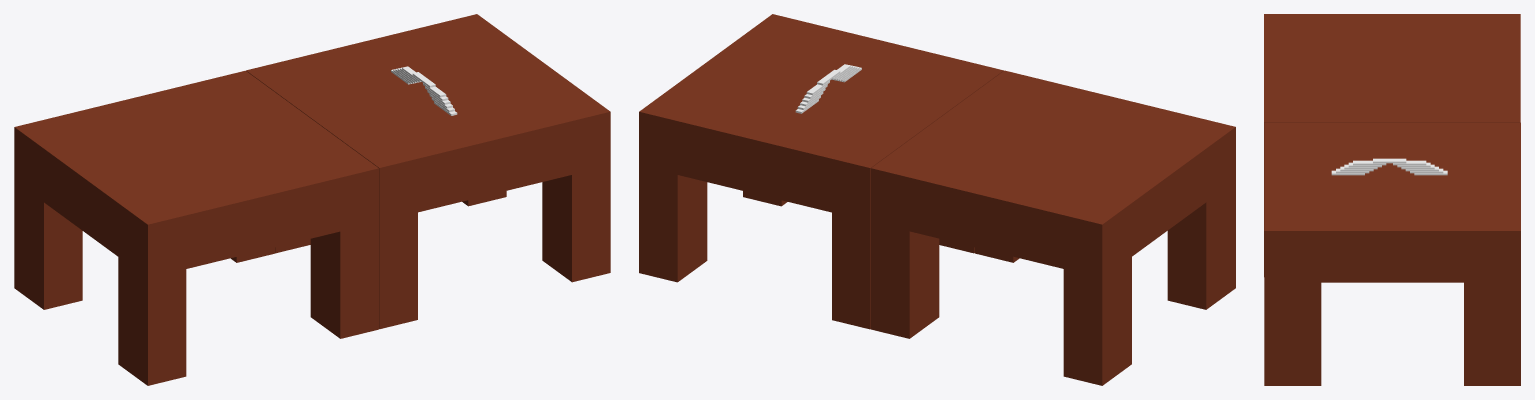
Rendered from keva_bridge.dae.
3 views of the same model, side by side, from view 1: azimuth 30°, elevation 25°; view 2: azimuth 150°, elevation 25°; view 3: azimuth 270°, elevation 25° (orthographic). The views are drawn at different scales.
Parts seen in each view (by area): view 1: base (×7); view 2: base (×7); view 3: base (×4).
Boxes of the visible parts, <box> form: base (×7): <box>14,14,610,385</box>; base (×7): <box>639,14,1235,385</box>; base (×4): <box>1264,14,1520,385</box>.
Size of the model in its own units: 1.8 by 0.9009 by 0.6544.
